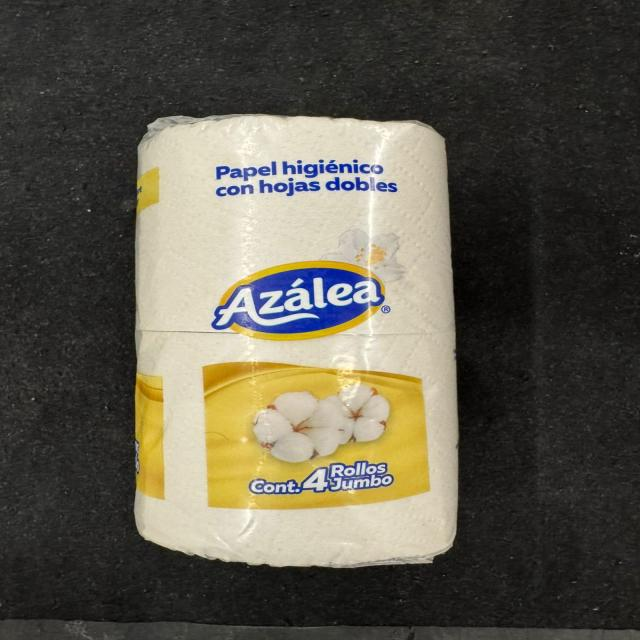PAPEL HIGIENICO AZALEA 4S CON AROMA: (128, 105, 482, 578)
